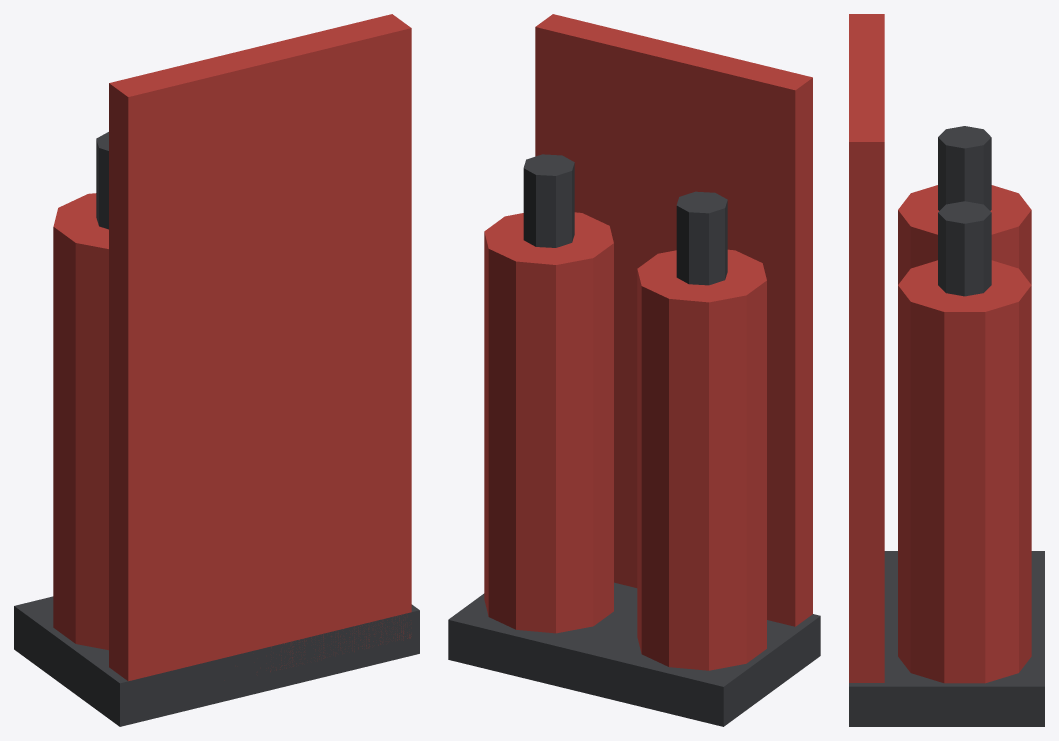
The model's file is extinguisher_stand.glb.
3 views of the same model, side by side, from view 1: azimuth 30°, elevation 25°; view 2: azimuth 150°, elevation 25°; view 3: azimuth 270°, elevation 25° (orthographic). The views are drawn at different scales.
Visible parts, largest first — view 1: extinguisher_stand; view 2: extinguisher_stand; view 3: extinguisher_stand.
Boxes of the visible parts, x1,y1,x2,y2 form: extinguisher_stand: (14, 14, 419, 726); extinguisher_stand: (448, 14, 820, 726); extinguisher_stand: (849, 14, 1044, 726).
Bounding box in the file's own units: 0.36 × 0.72 × 0.22.
